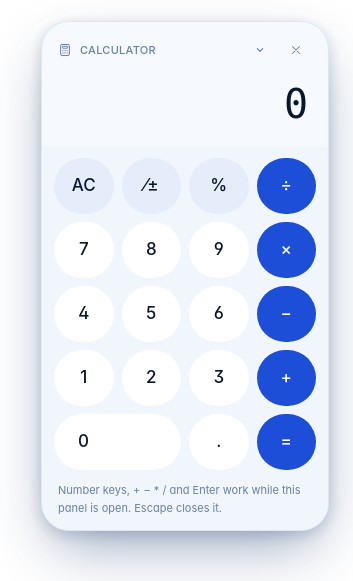
Test: FloatingCalculator › labels the clear key C while a number is open, AC once it is not
Expected: the button with aria-label "clear" reads "AC", [54,158,114,214]
Click the button named "digit 4" at (84, 314), box [54,286,114,342]
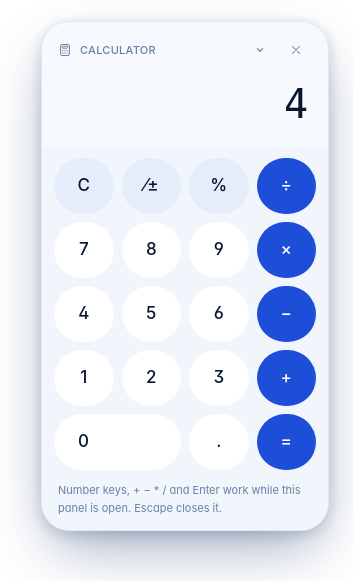
Result: the button named "clear" reads "C" at [54,158,114,214]
